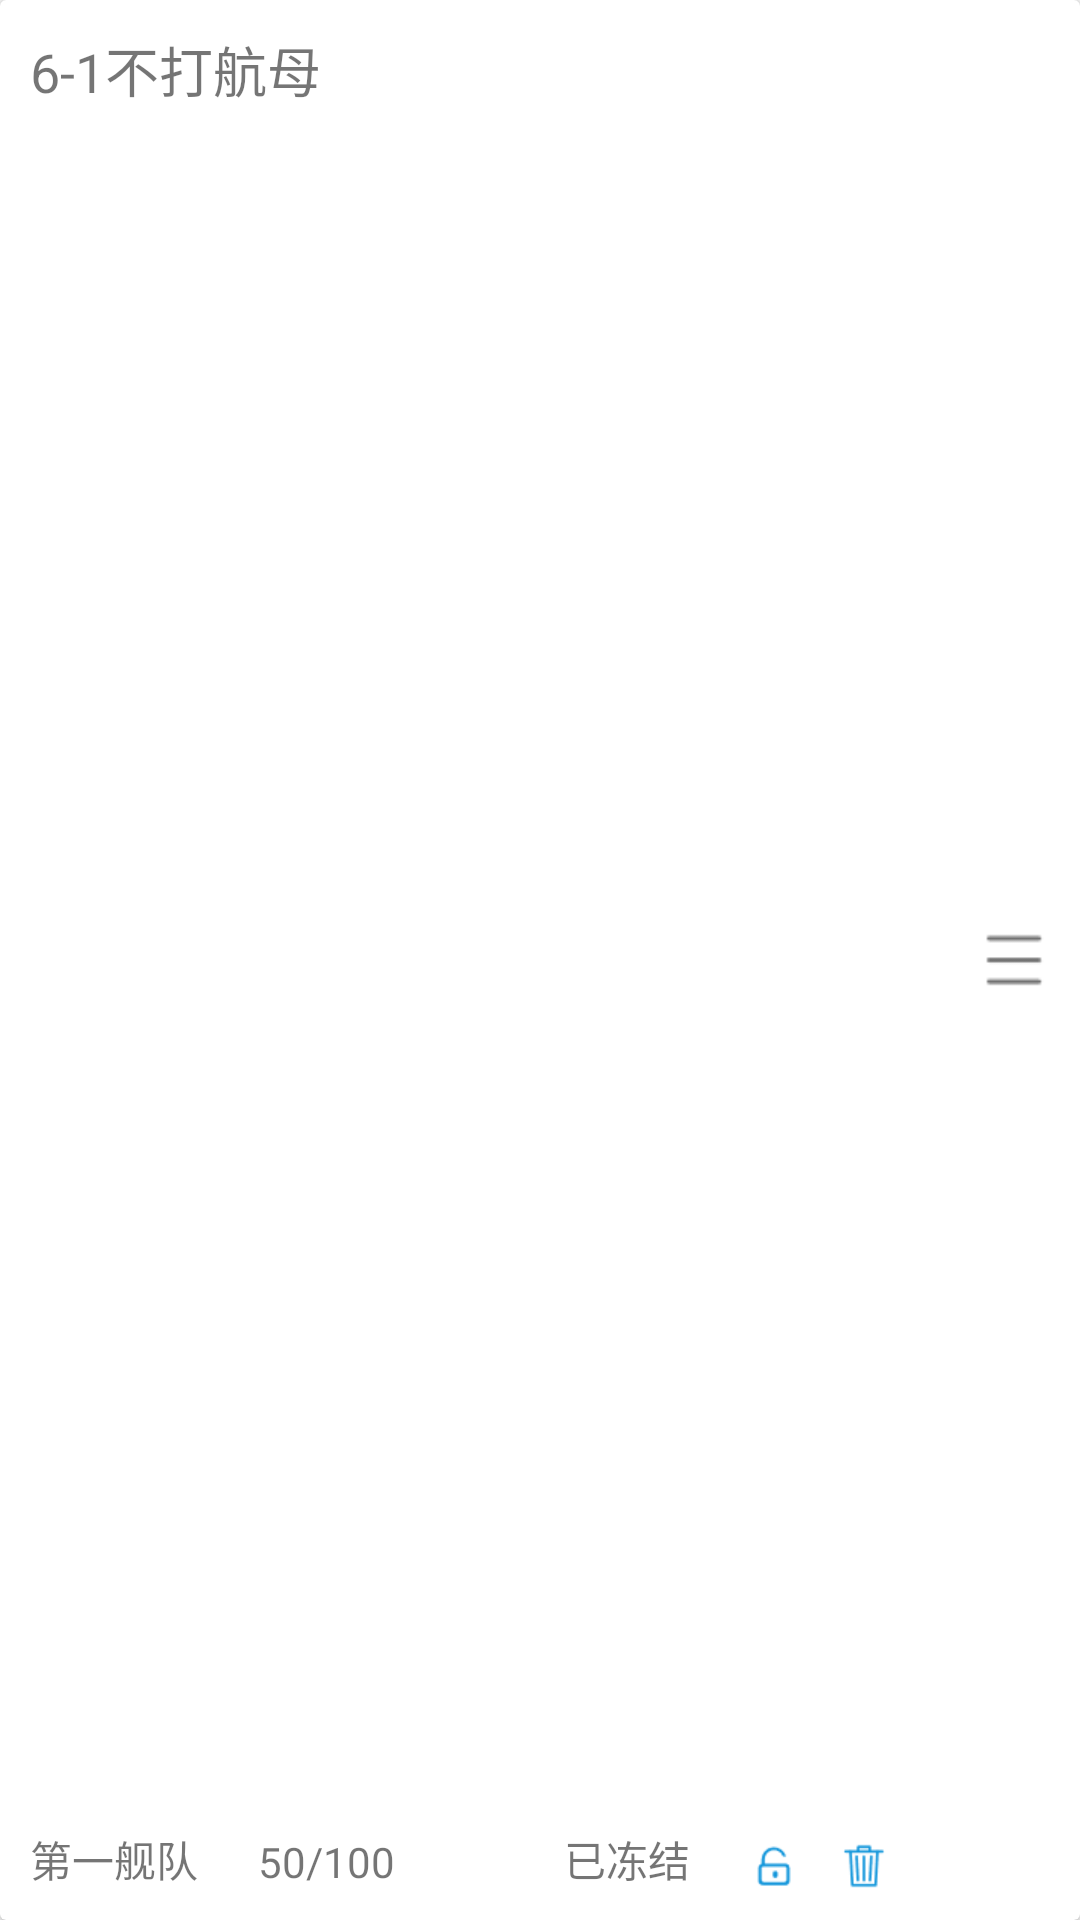

Icons on this 1080x1920 Android screen, each with its box as (x1, y1, x2, y2):
del: (844, 1844, 884, 1888)
unlock: (757, 1846, 791, 1886)
